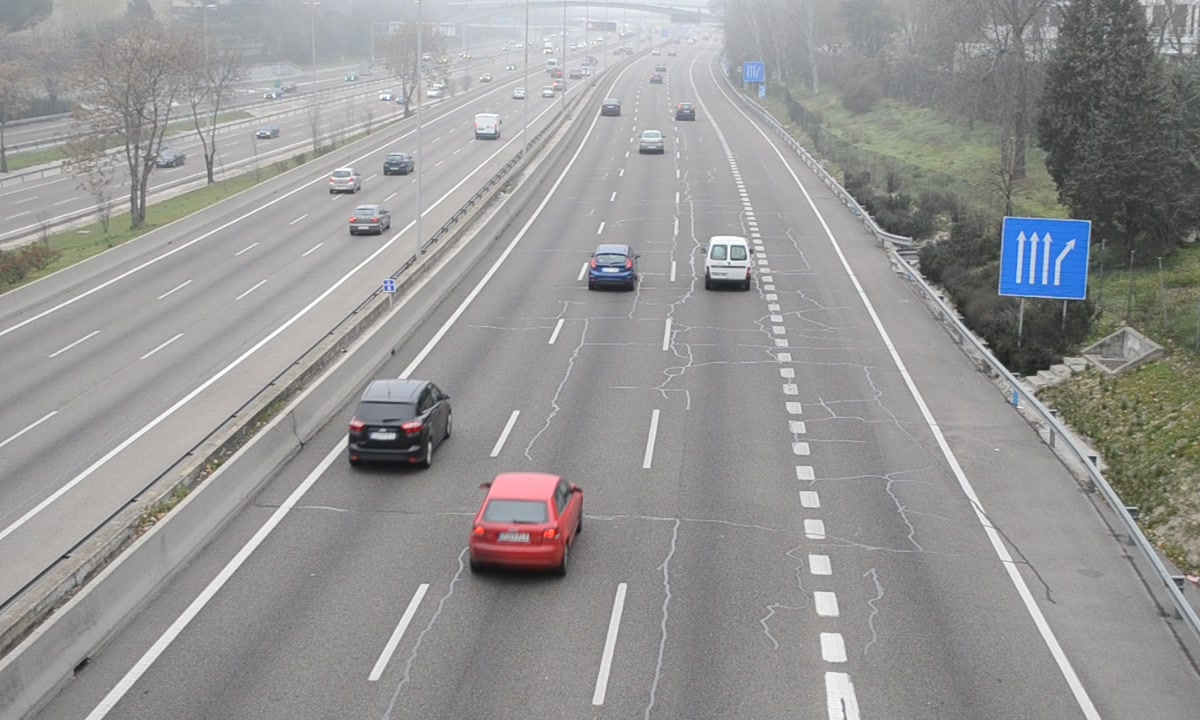car: (470, 473, 582, 571), (348, 380, 449, 468), (588, 242, 636, 287), (638, 128, 666, 155), (675, 100, 698, 123)
van: (704, 235, 752, 289)
